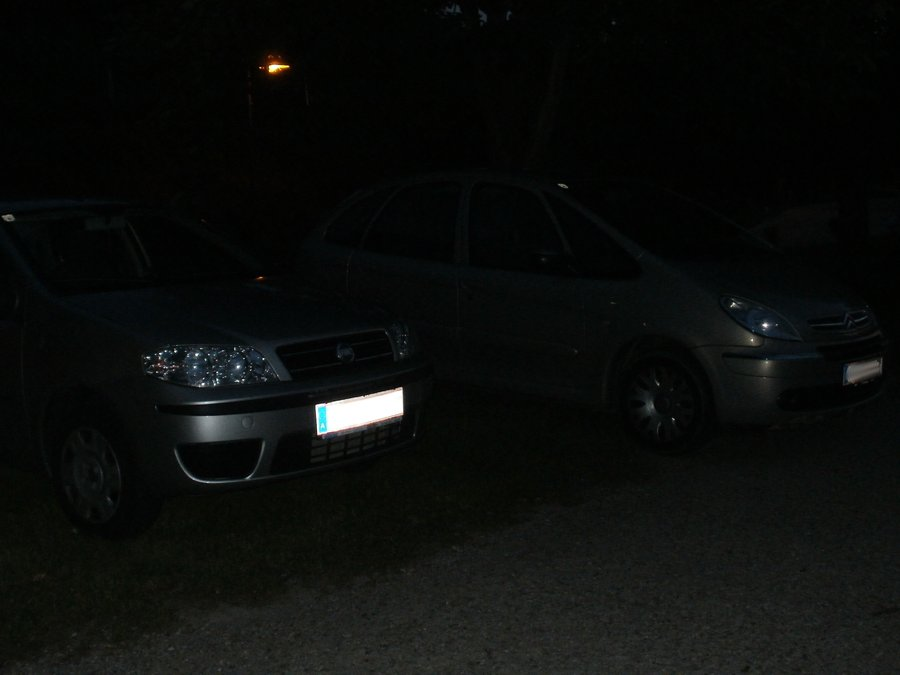car: (5, 174, 453, 530)
